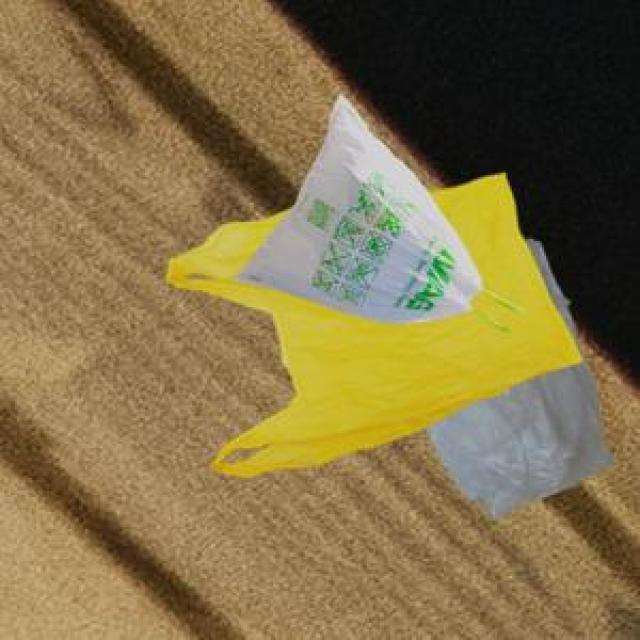waste: (168, 96, 612, 517)
